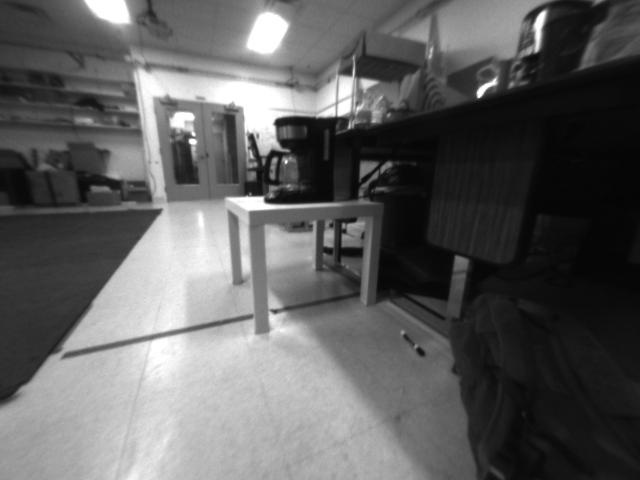coffee_pot: (254, 113, 336, 200)
